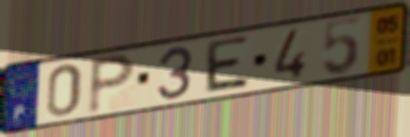0: (44, 62, 85, 120)
3: (155, 44, 195, 103)
4: (272, 26, 310, 83)
5: (321, 13, 367, 77)
E: (201, 33, 252, 96)
P: (85, 52, 139, 118)
